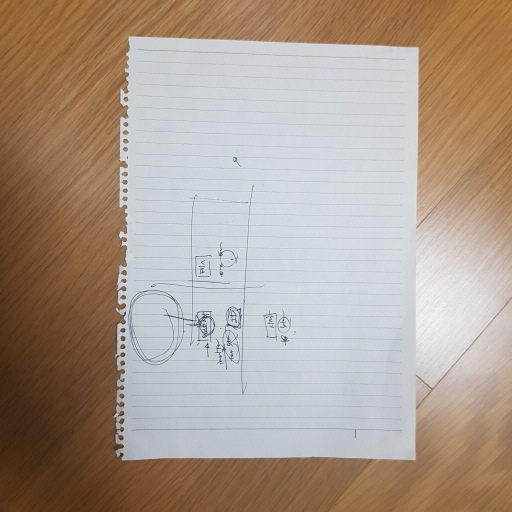Paper_2: (104, 29, 437, 477)
